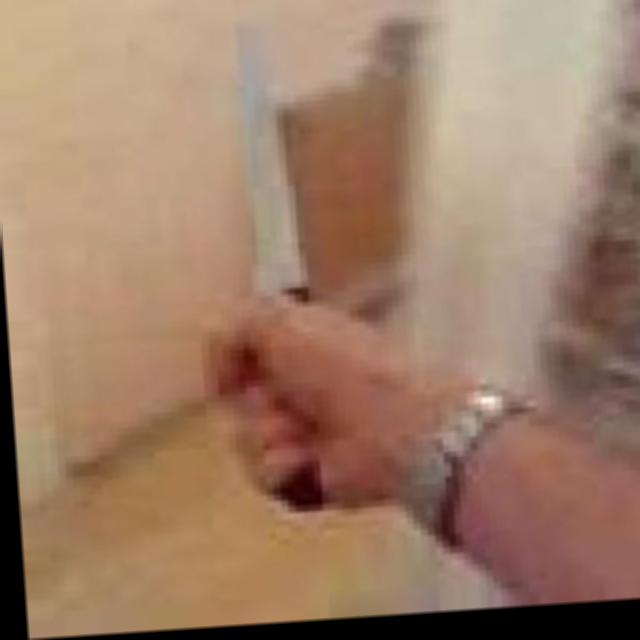Sharp-Object: (229, 27, 326, 519)
